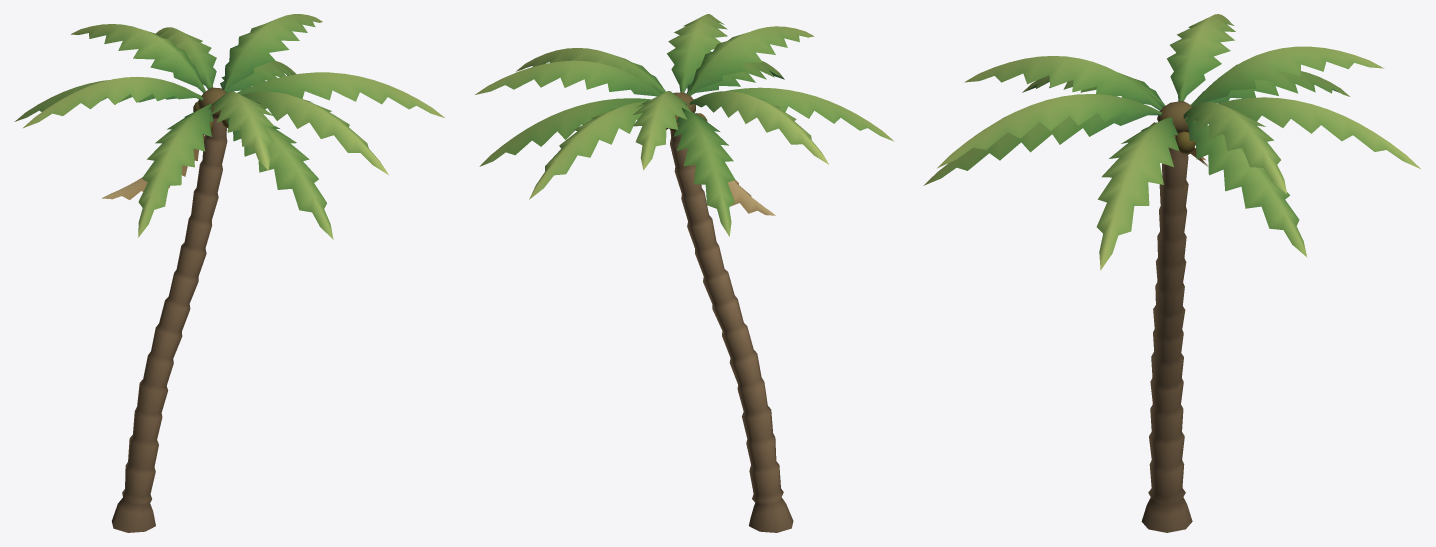
File: Palm.fbx
The picture shows the model from 3 angles, left to right: view 1: azimuth 30°, elevation 25°; view 2: azimuth 150°, elevation 25°; view 3: azimuth 270°, elevation 25°; orthographic projection. The views are drawn at different scales.
Visible parts, largest first — view 1: Palm; view 2: Palm; view 3: Palm.
Part boxes in pixels (x1=…): Palm: x1=14, y1=14, x2=444, y2=532; Palm: x1=475, y1=14, x2=894, y2=532; Palm: x1=923, y1=14, x2=1420, y2=532.
Size of the model in its own units: 6.38 by 7.35 by 6.56.
